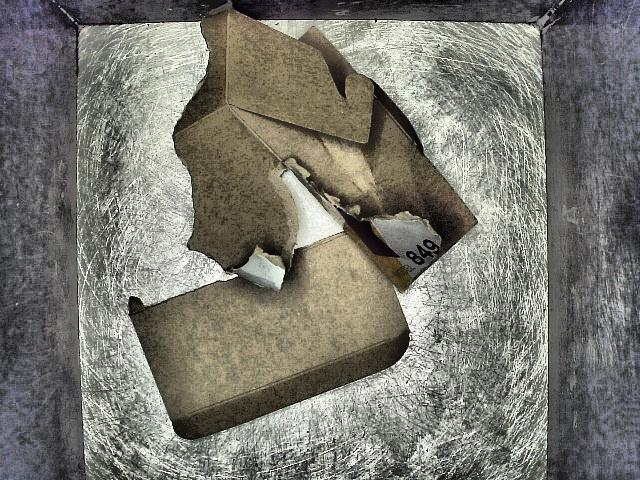Paper: (94, 0, 484, 443)
